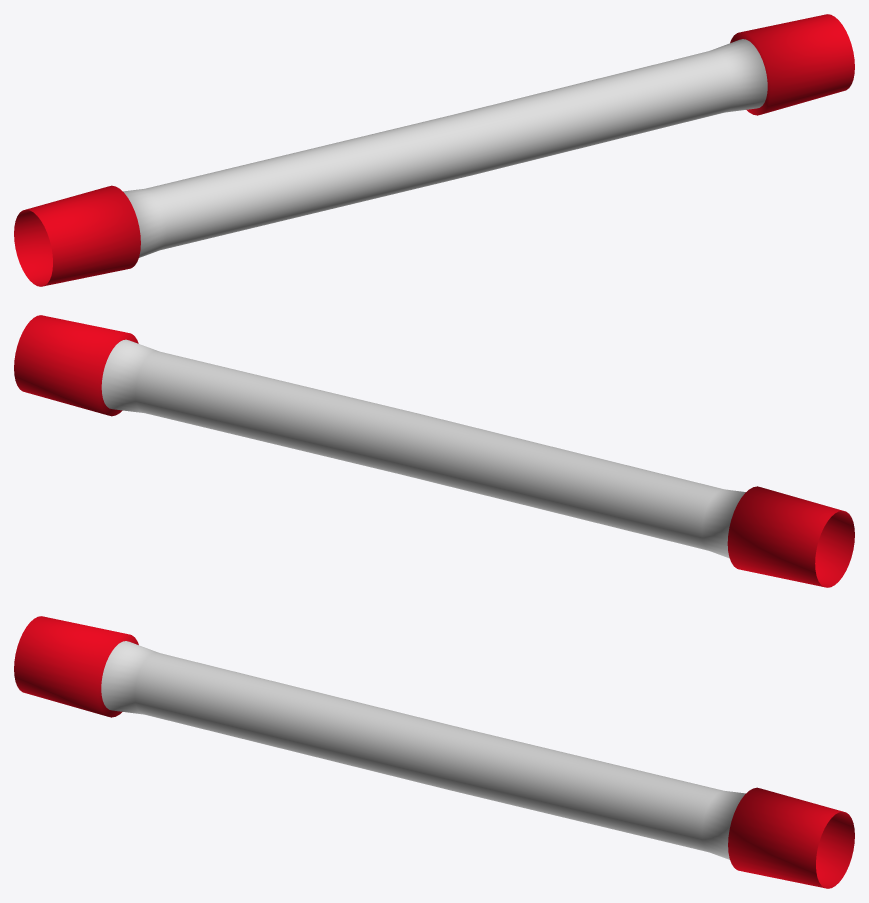
File: Pipe3.fbx
3 renders of one model, top to bottom at view 1: azimuth 30°, elevation 25°; view 2: azimuth 150°, elevation 25°; view 3: azimuth 330°, elevation 25°, orthographic.
Parts seen in each view (by area): view 1: Cylinder.003; view 2: Cylinder.003; view 3: Cylinder.003.
Part boxes in pixels (<box>): Cylinder.003: <box>14,14,854,286</box>; Cylinder.003: <box>14,315,854,587</box>; Cylinder.003: <box>14,616,854,888</box>.
Bounding box in the file's own units: 688 × 63.47 × 63.47.
